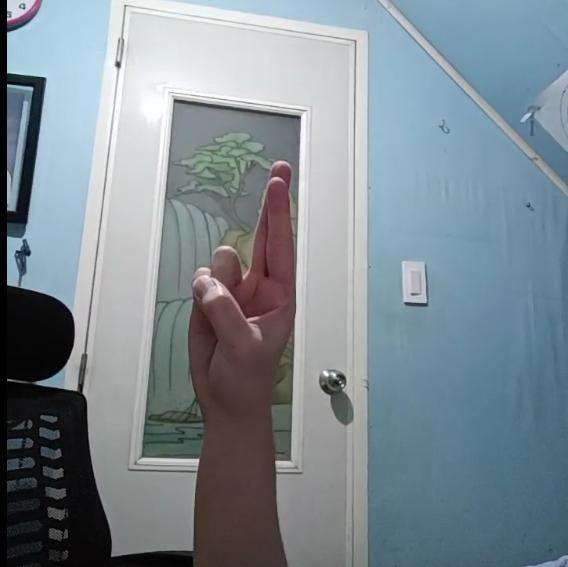r: (186, 155, 297, 409)
